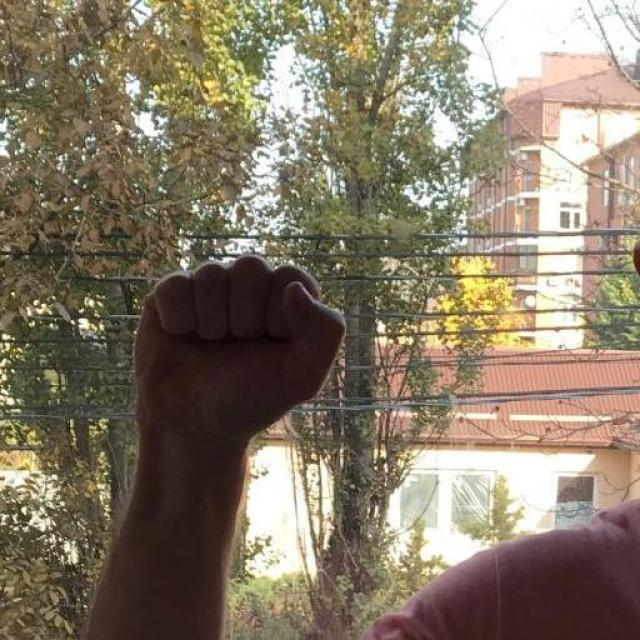hand: (130, 254, 346, 445)
